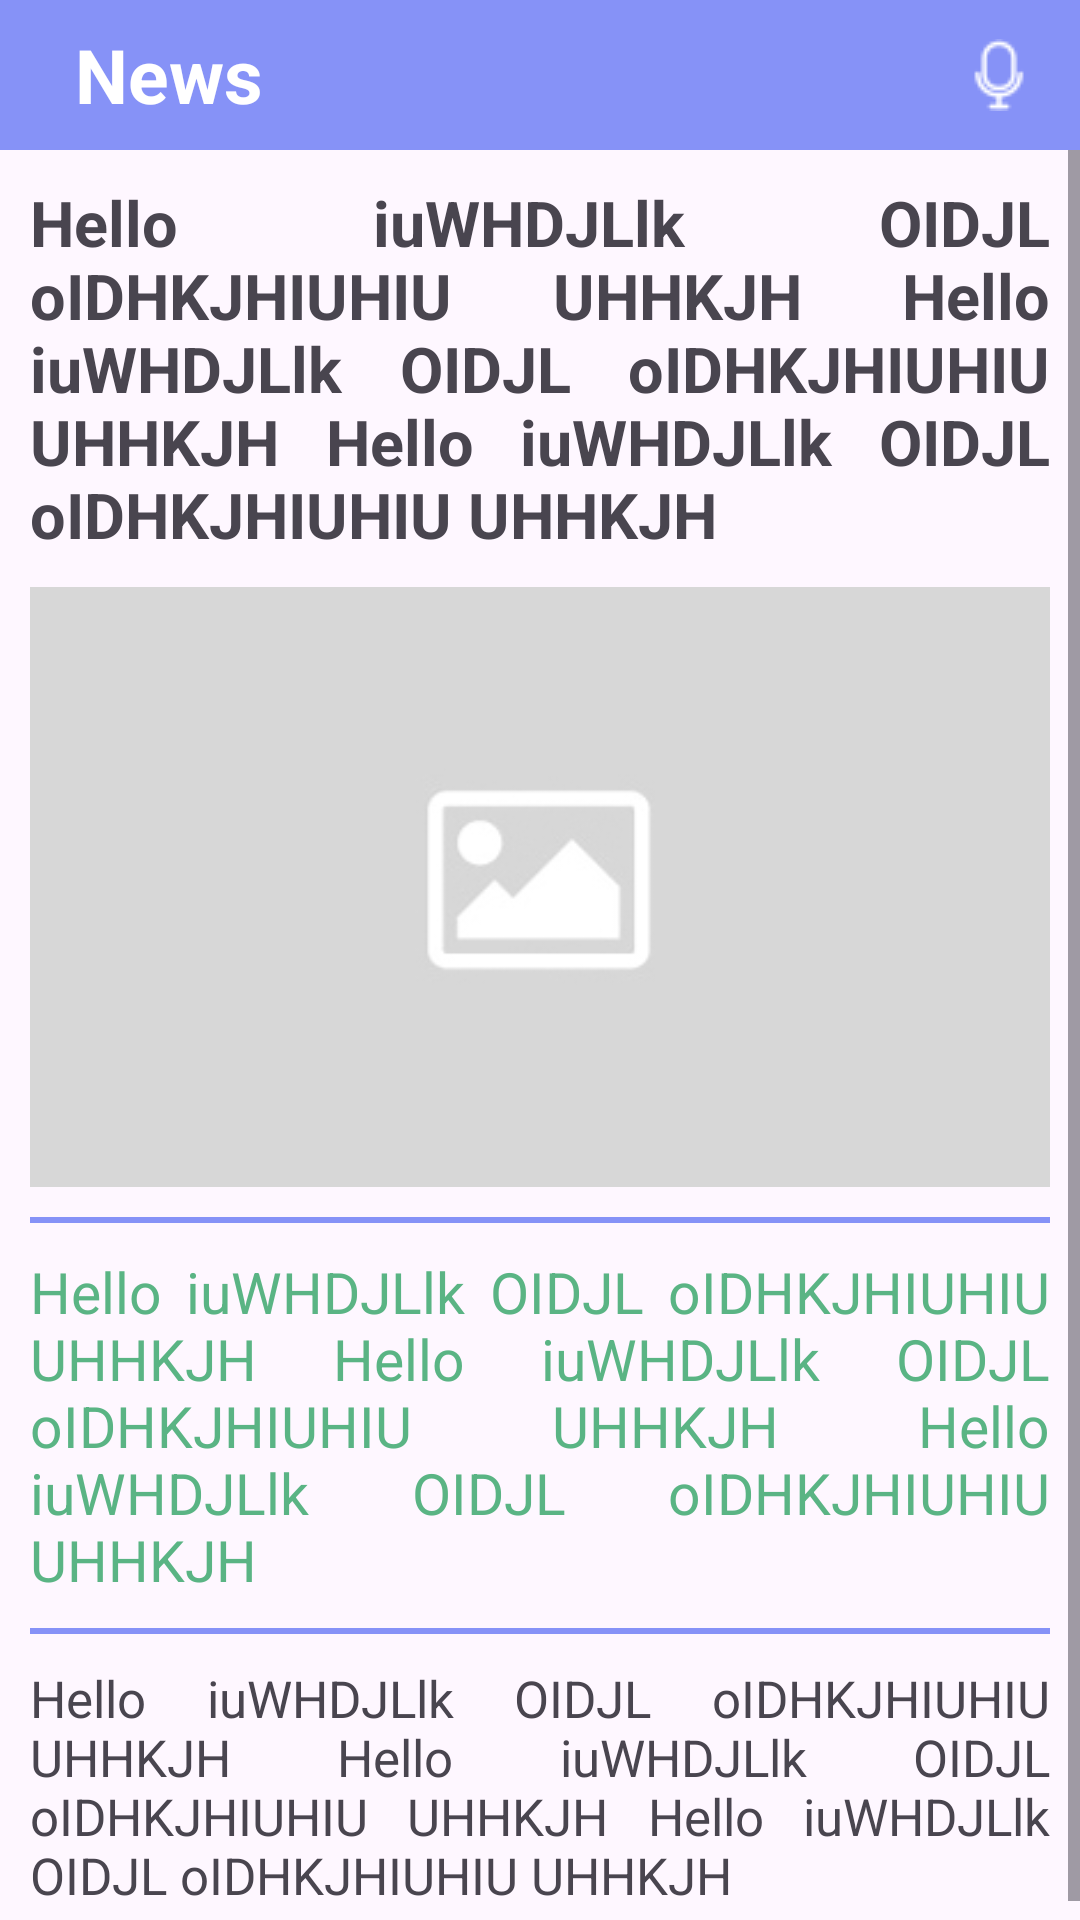

Screen size 1080px x 1920px. Icon name, then its center in pixels as (x,y):
voice: (999,76)
